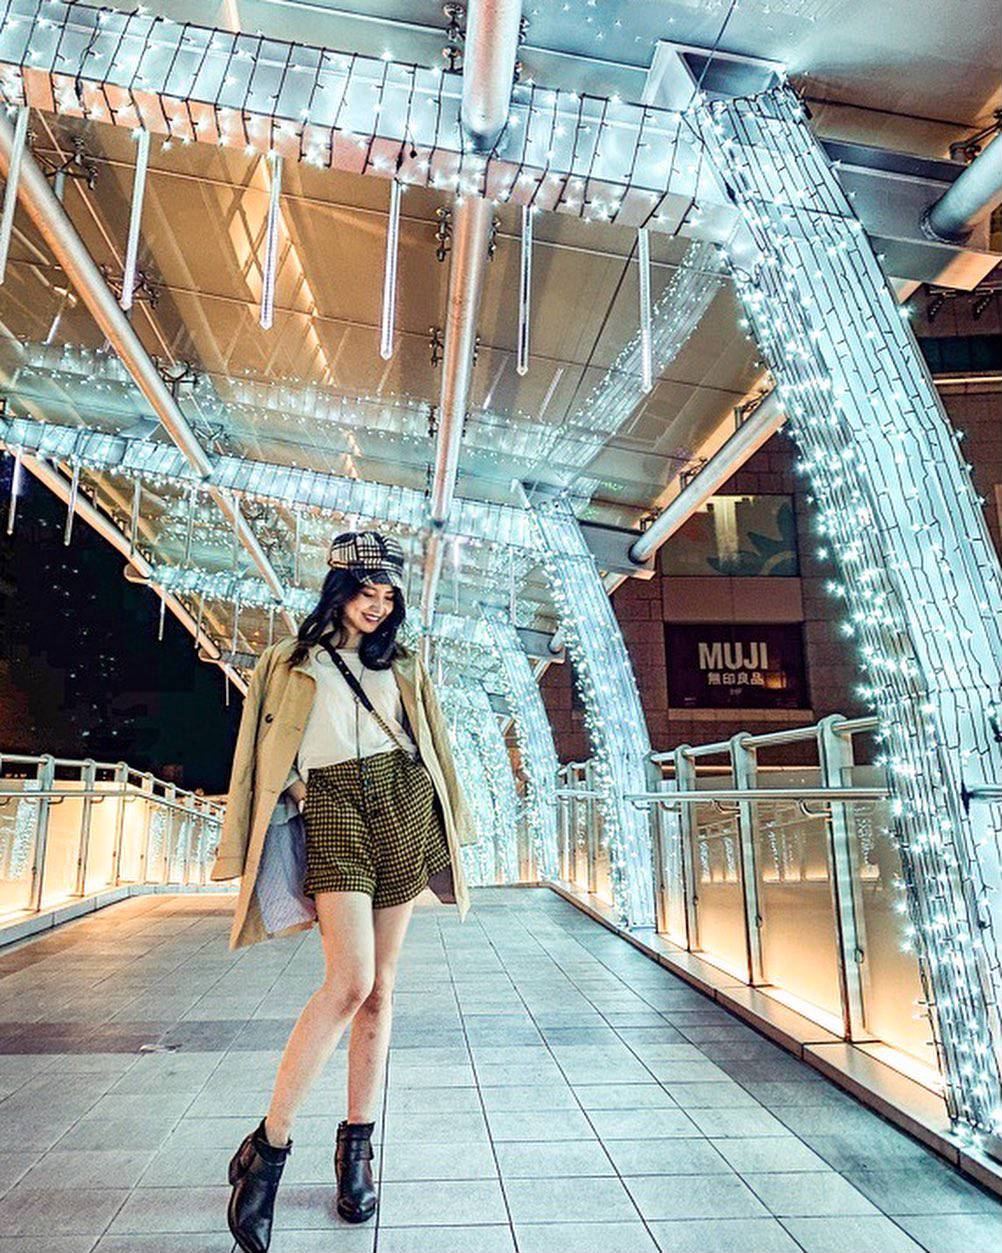people: (226, 535, 472, 1253)
